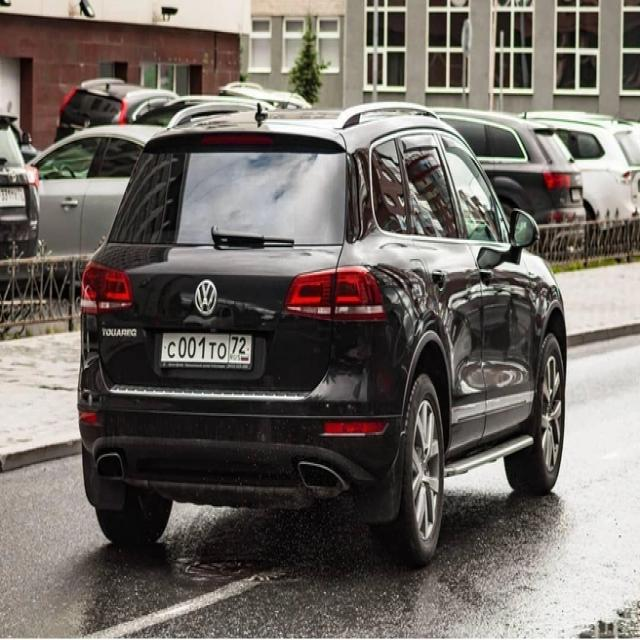number-plates: (158, 330, 253, 373)
